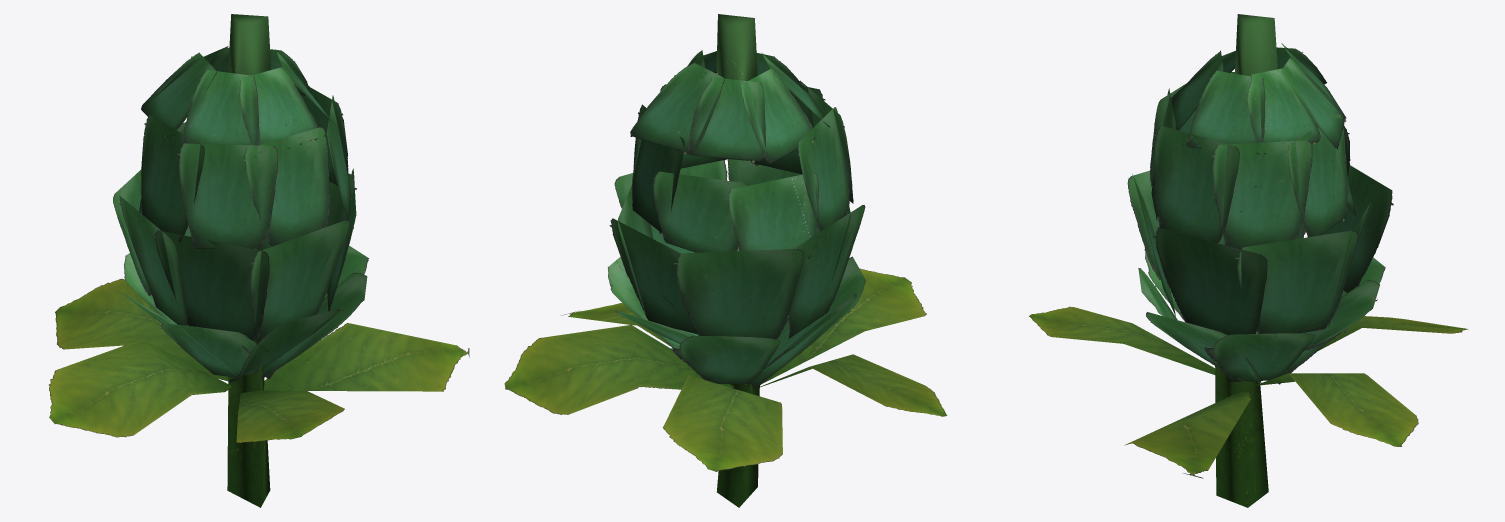
File: flowers8.glb
The picture shows the model from 3 angles, left to right: view 1: azimuth 30°, elevation 25°; view 2: azimuth 150°, elevation 25°; view 3: azimuth 270°, elevation 25°; orthographic projection.
Visible parts, largest first — view 1: flowers.008; view 2: flowers.008; view 3: flowers.008.
Part boxes in pixels (left/top/right/bottom): flowers.008: left=49, top=14, right=469, bottom=507; flowers.008: left=504, top=14, right=947, bottom=507; flowers.008: left=1029, top=14, right=1468, bottom=507.
Bounding box in the file's own units: 0.4562 × 0.5151 × 0.4721.
Materials: 1 (1 with a texture image).
